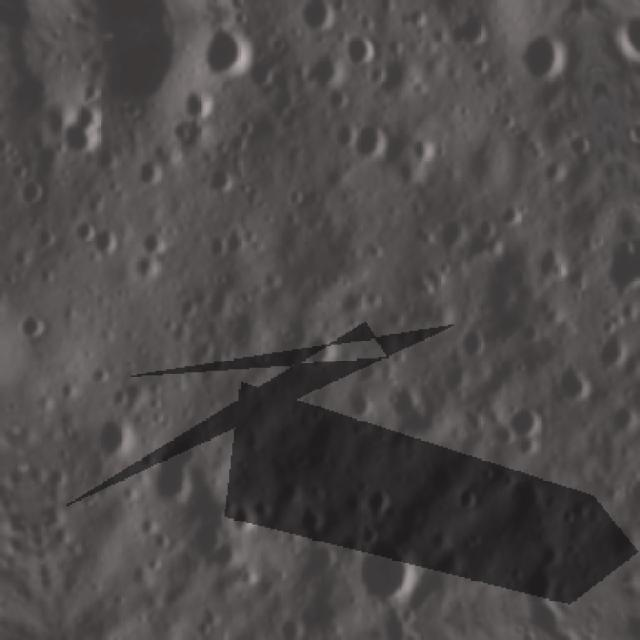crater: (69, 24, 196, 124), (352, 528, 438, 612), (143, 424, 219, 510), (188, 18, 267, 92), (499, 24, 573, 90), (0, 52, 62, 126), (345, 110, 406, 168), (54, 102, 109, 166), (549, 355, 609, 411), (441, 0, 502, 54), (87, 403, 141, 462), (430, 205, 476, 263), (401, 120, 450, 174), (80, 218, 132, 268), (329, 25, 382, 73), (299, 332, 343, 379), (288, 0, 339, 40), (8, 306, 52, 352), (530, 238, 568, 287), (508, 399, 547, 443), (132, 218, 177, 256), (9, 170, 49, 212), (66, 207, 99, 245), (157, 623, 194, 640)
